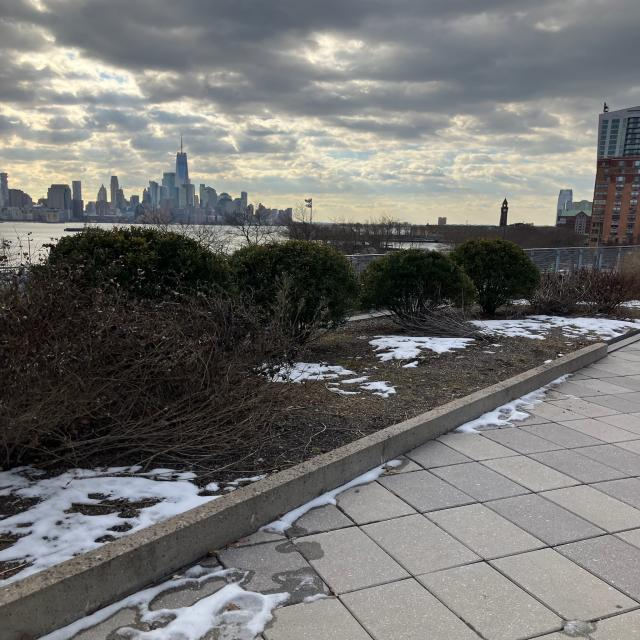WTC: (174, 134, 190, 188)
